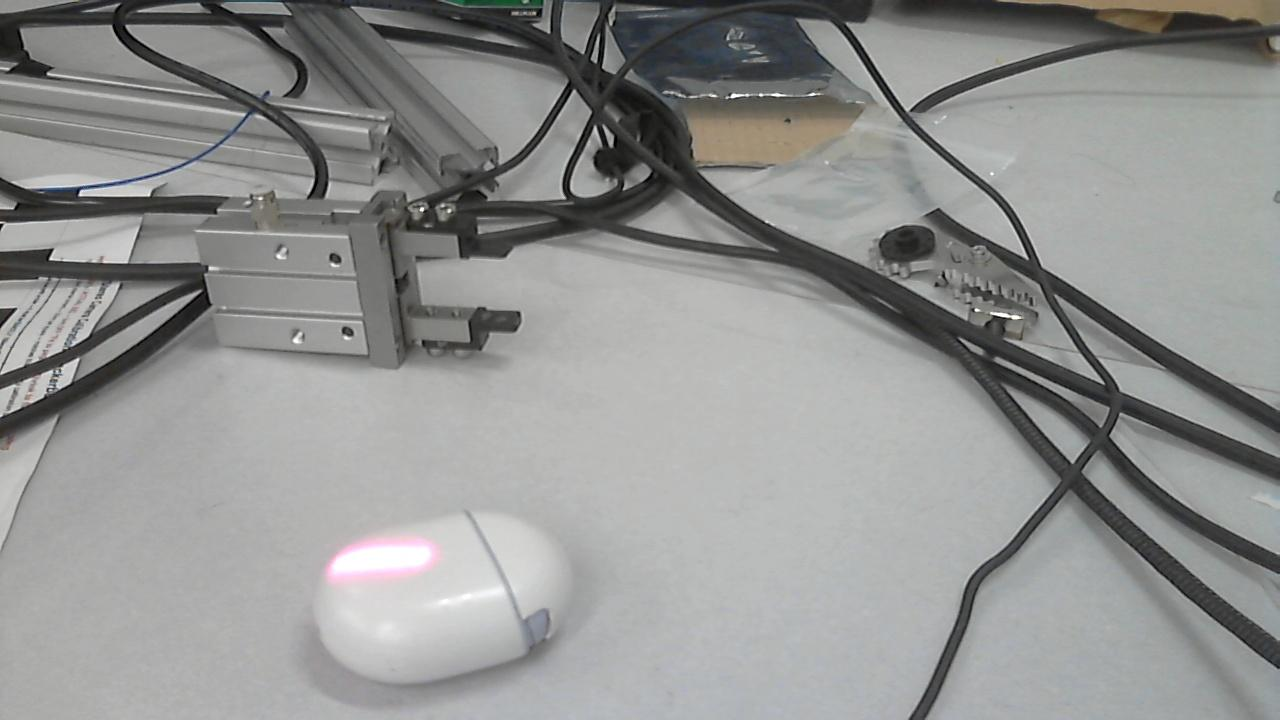Object wireless earbud charging case - Material plastic - Pdfname qzJIPQkli2jB: (317, 540, 452, 593)
